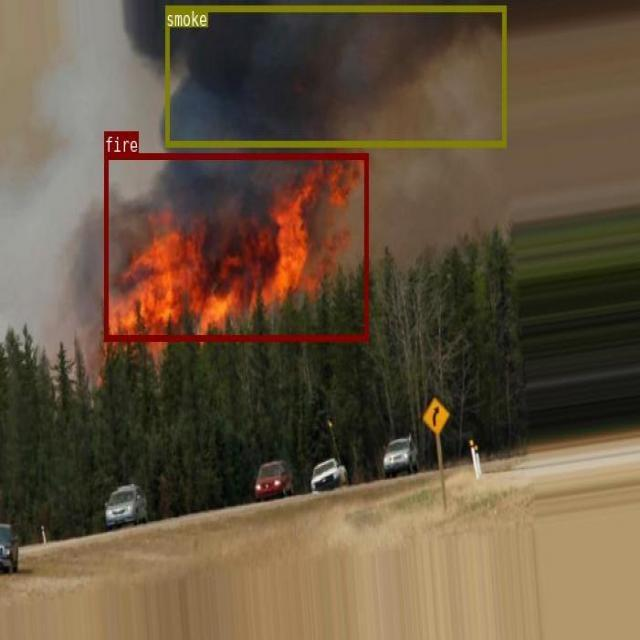fire: (104, 152, 368, 340)
smoke: (165, 5, 506, 146)
